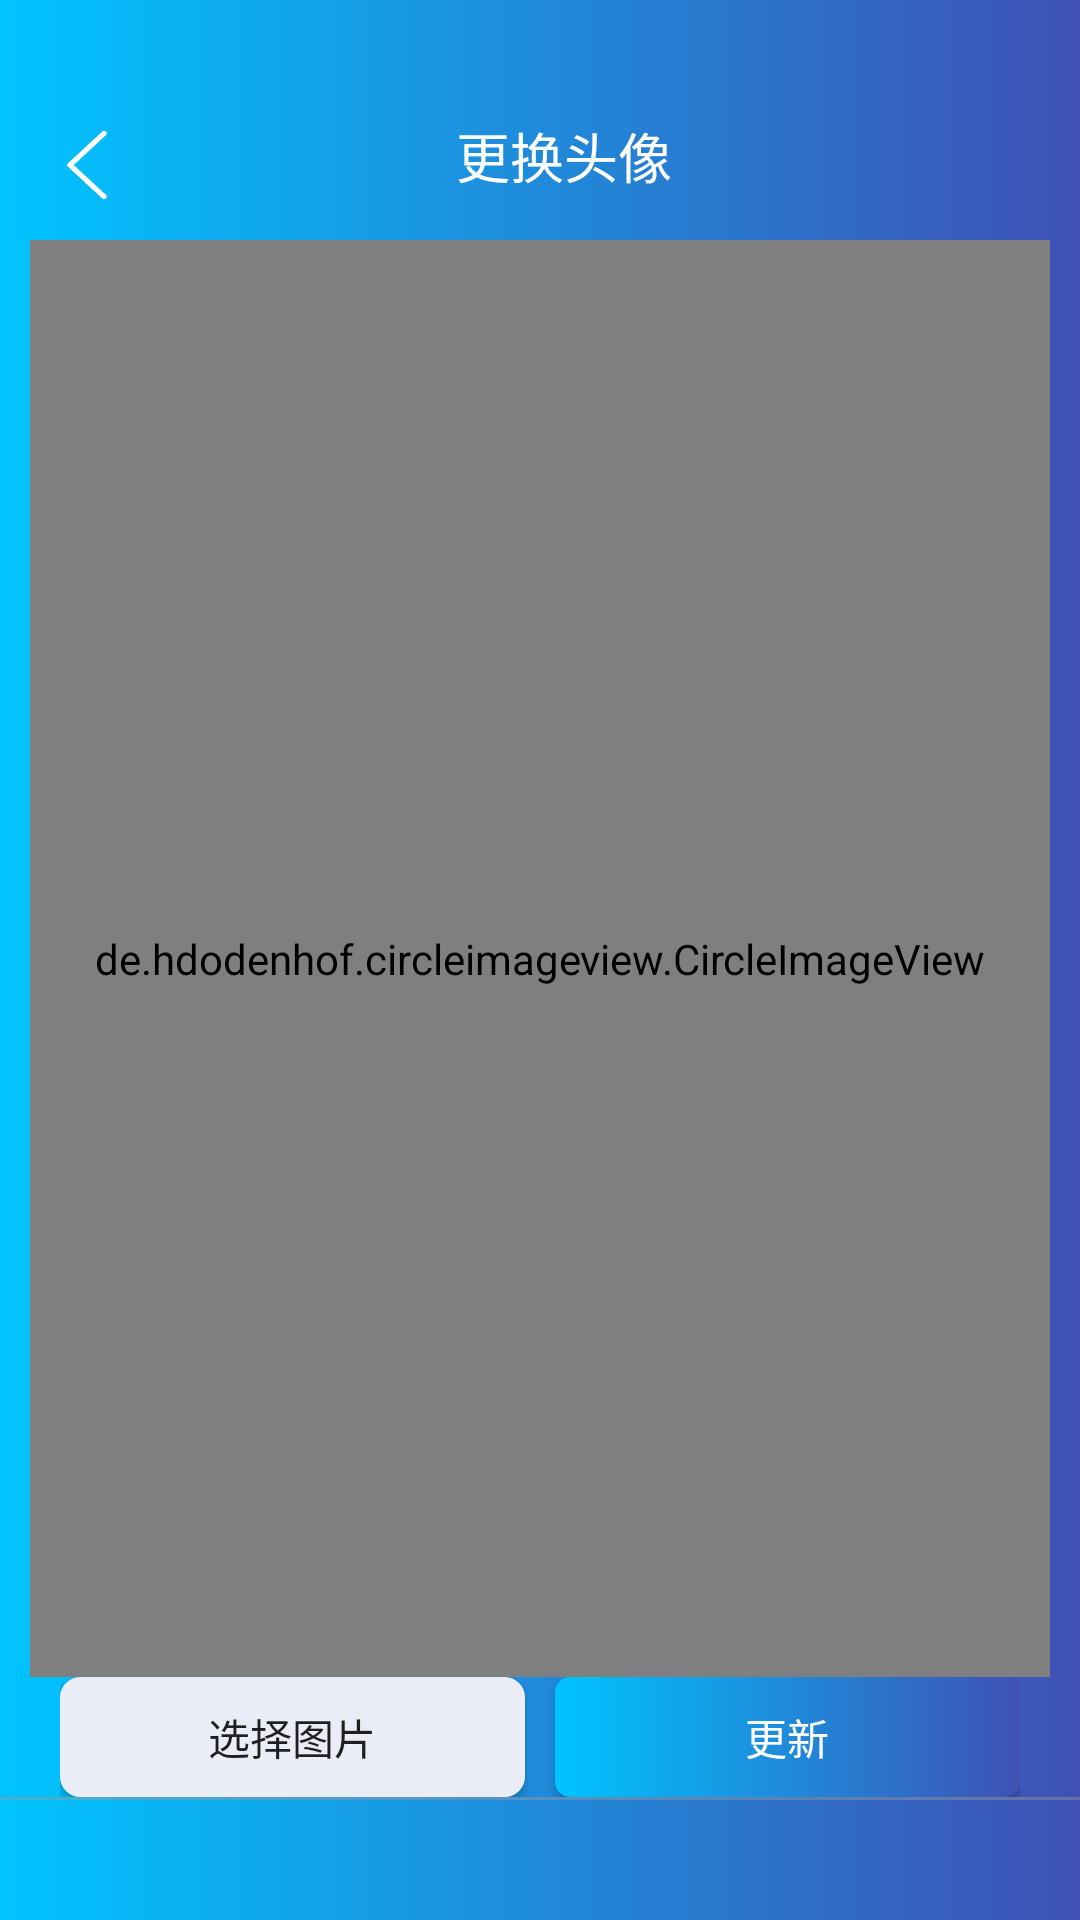

Locate icon controls on the screen. Image size 1080w x 1920h, boxes as (left=x1, top=y1, right=x2, bottom=y2).
back: (left=67, top=130, right=107, bottom=199)
